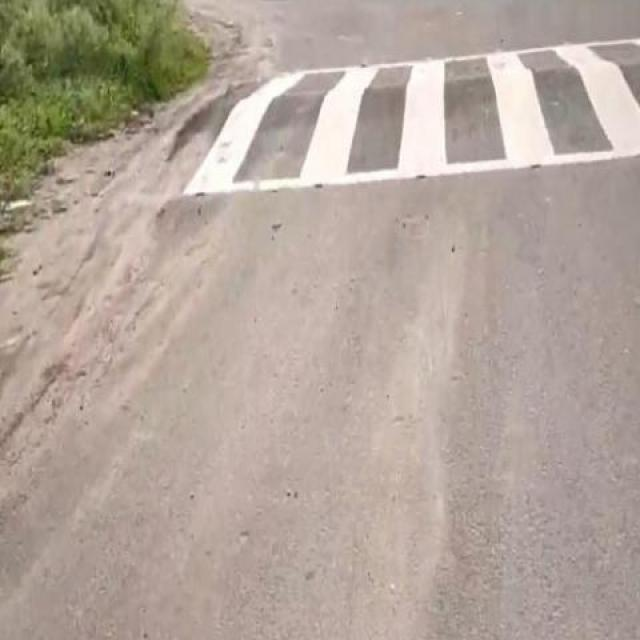Speed Bump: (154, 34, 638, 194)
